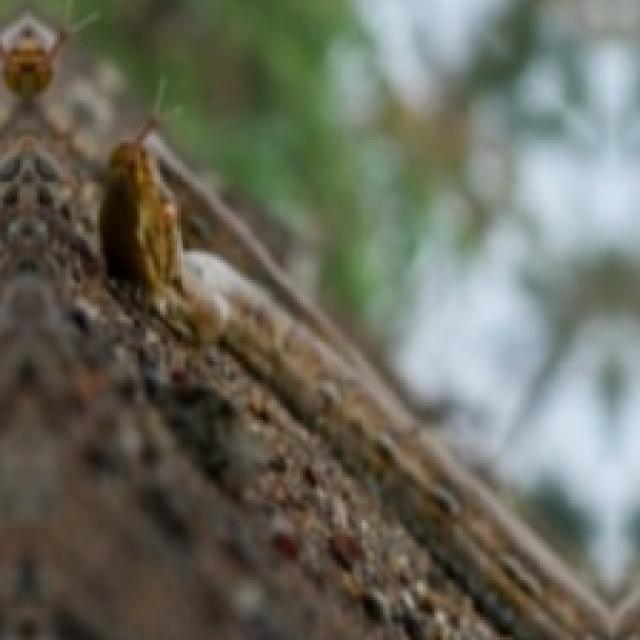reticulated python: (102, 141, 609, 639)
